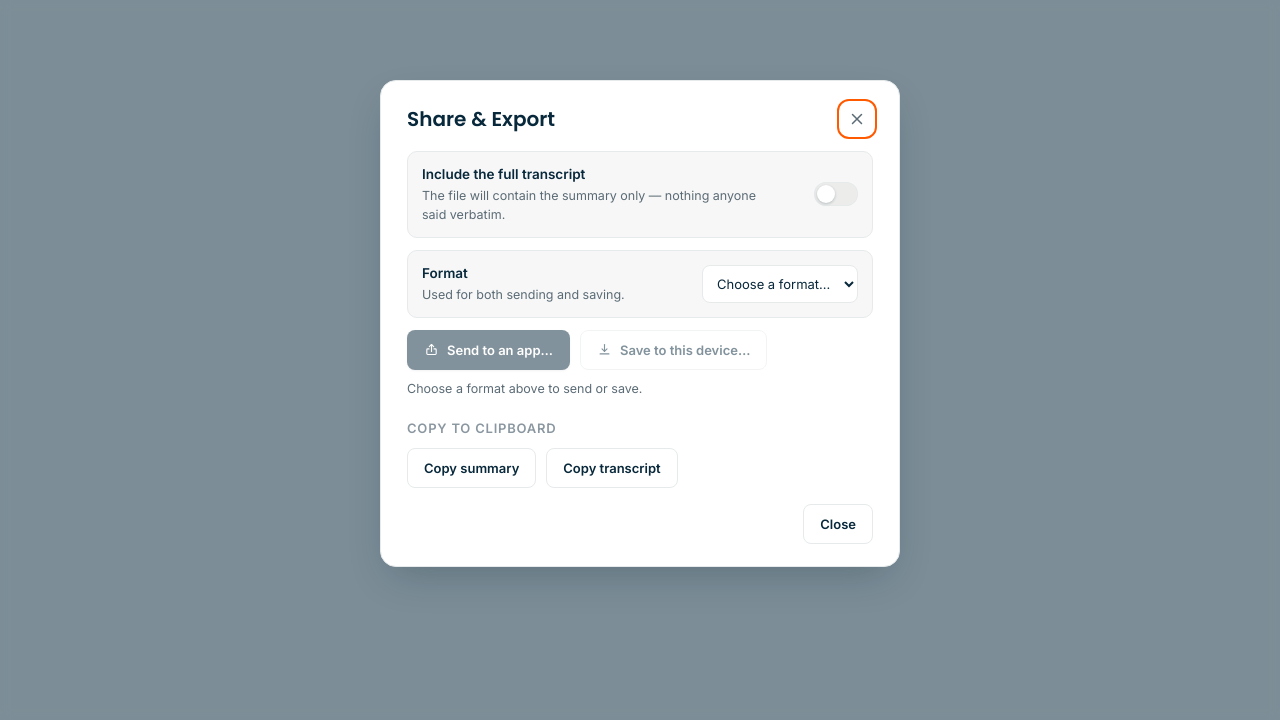
Test: ShareModal format gate › opens both destinations, and drops the hint, once a format is chosen
Select "Word (.docx)" in the dropdown labelled "Format": [780, 284] box x1=702 y1=265 x2=858 y2=303
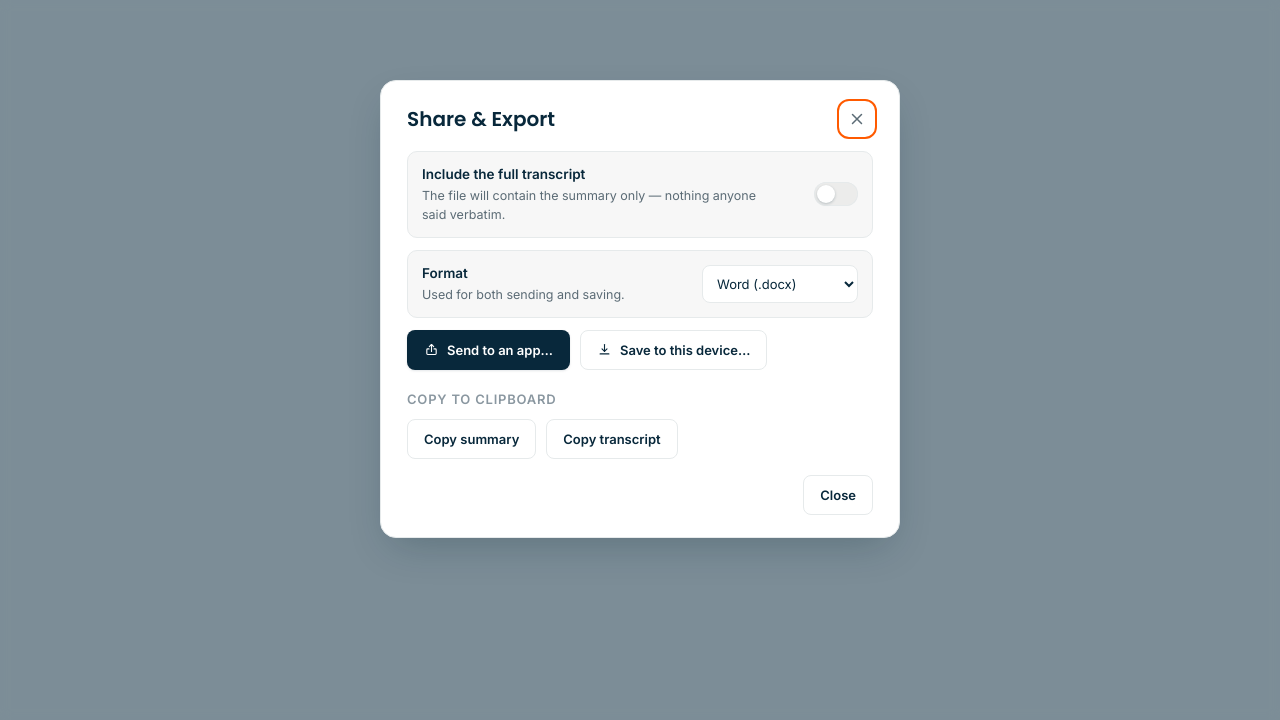
Now the button "Send to an app…" is enabled, box x1=407 y1=330 x2=570 y2=370
Now the button "Save to this device…" is enabled, box x1=580 y1=330 x2=767 y2=370
Now the text "Choose a format above" is gone
